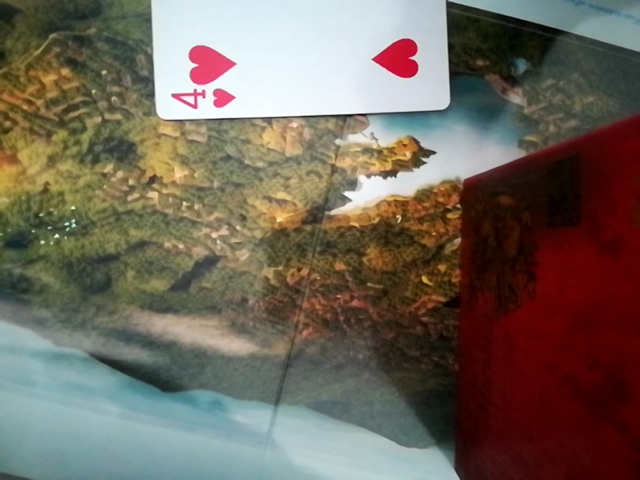hx 4: (142, 3, 451, 131)
